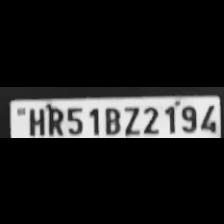1: (84, 104, 102, 136), (160, 102, 176, 134)
2: (139, 102, 159, 134)
4: (198, 102, 218, 132)
5: (64, 105, 84, 135)
9: (178, 102, 198, 132)
B: (101, 104, 121, 134)
H: (24, 104, 46, 136)
R: (45, 104, 63, 136)
Z: (122, 102, 140, 136)
